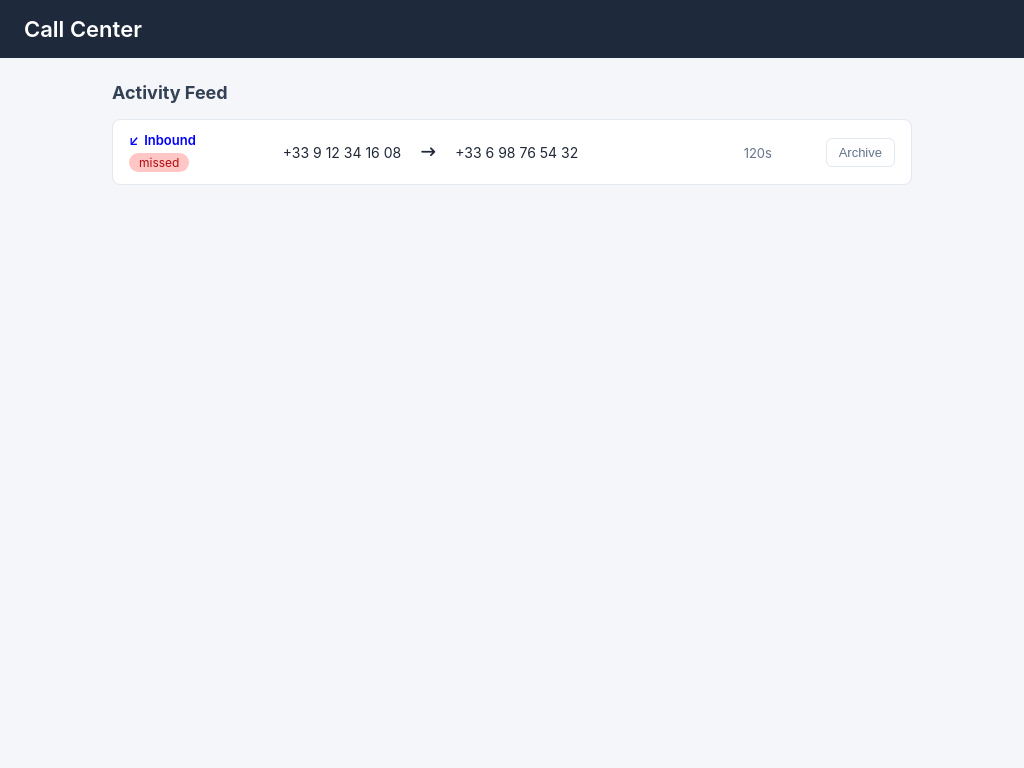
Test: App › should display call details
Expected: the heading "Activity Feed" is shown, 112,82 -> 228,103
Click the list item at (512, 152), box 112,119 -> 912,185
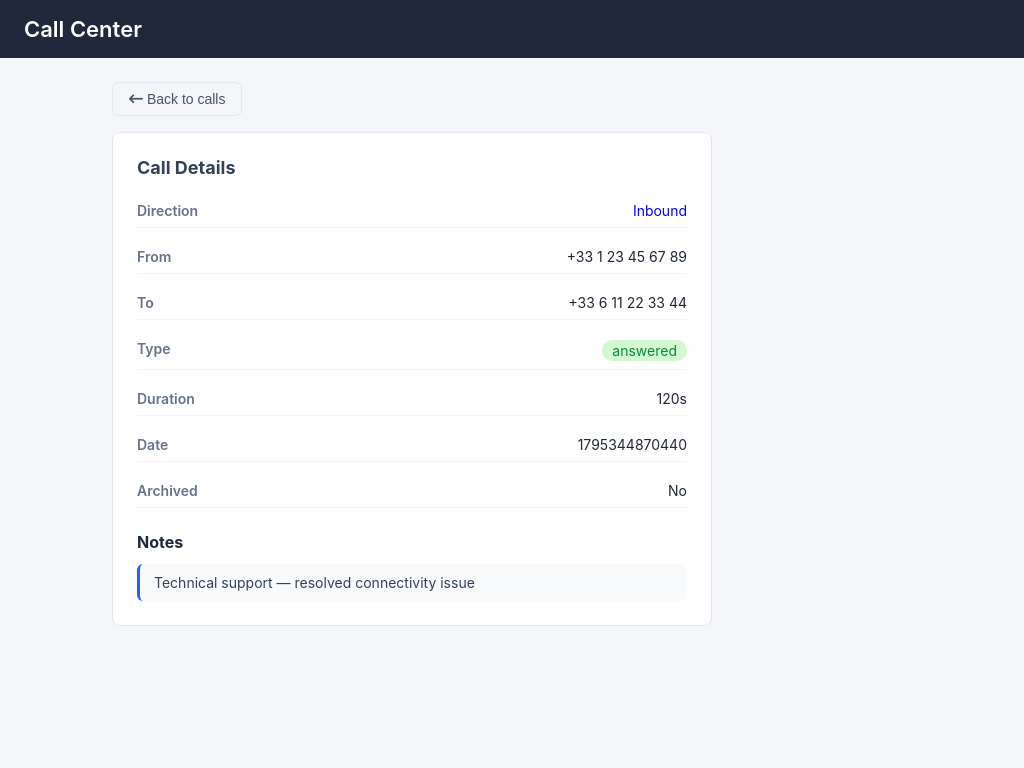
Expected: the list item "Technical support — resolved connectivity issue" is shown, 137,564 -> 687,601
